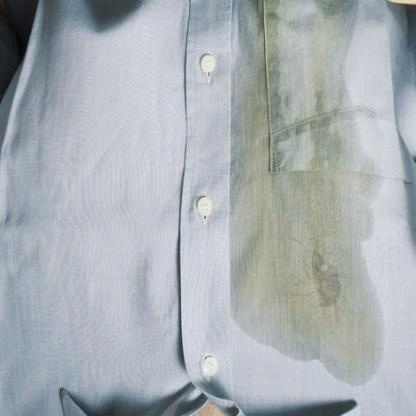coffee: (234, 167, 370, 344), (235, 4, 274, 163)
